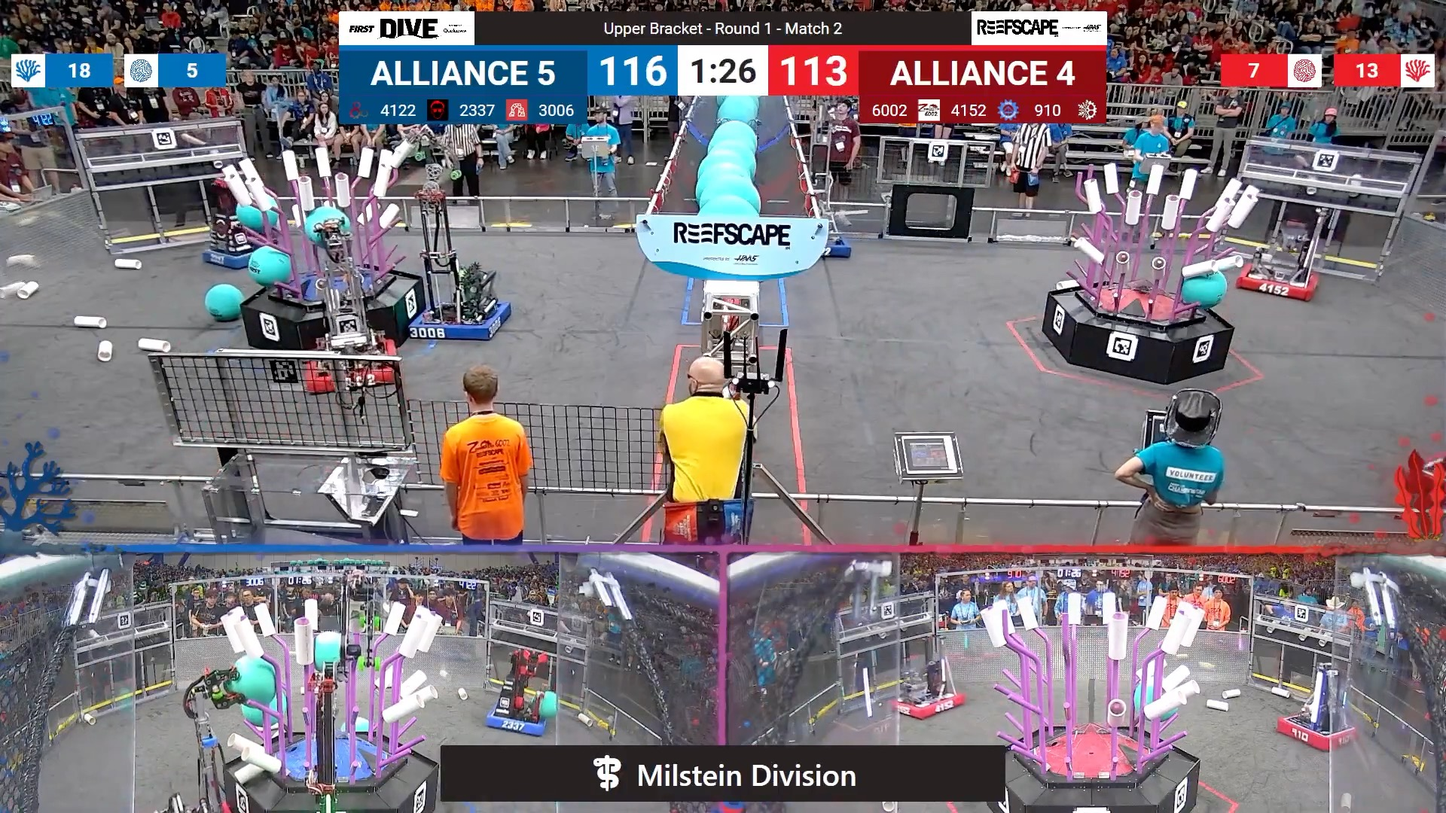bumpers: (293, 331, 404, 394), (403, 297, 518, 347), (1225, 257, 1331, 306), (1269, 711, 1361, 754), (480, 698, 555, 739), (886, 685, 970, 719), (197, 242, 271, 276), (803, 231, 858, 258)
